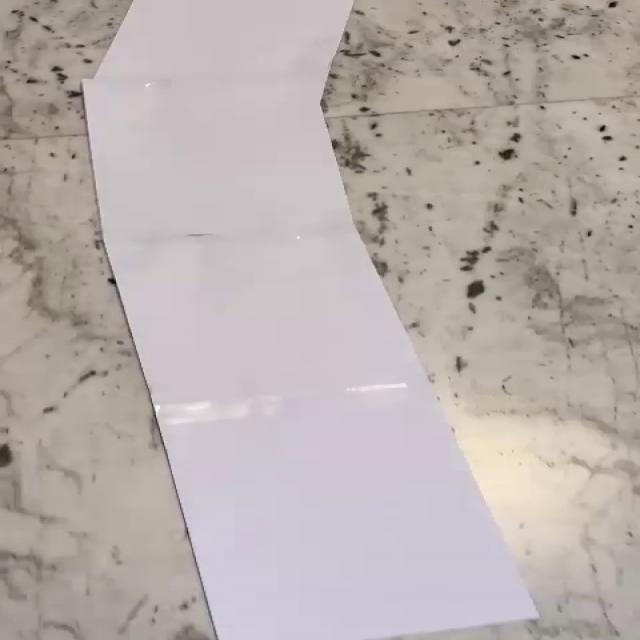road: (81, 0, 537, 640)
